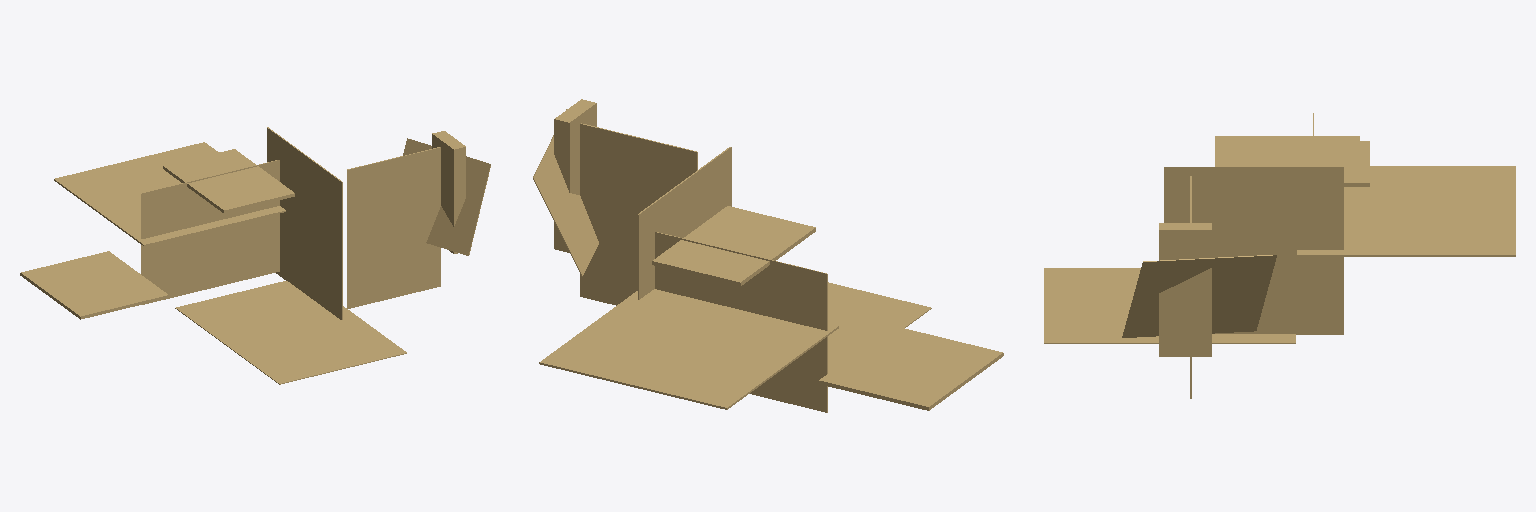
robot.urdf — evolved_design:
<?xml version="1.0" ?>
<robot name="evolved_design">
  <link name="base_link">
    <inertial>
      <mass value="0.001"/>
      <origin xyz="0 0 0" rpy="0 0 0"/>
      <inertia ixx="0.000001" ixy="0" ixz="0" iyy="0.000001" iyz="0" izz="0.000001"/>
    </inertial>
  </link>
  <link name="link_comp_0">
    <inertial>
      <mass value="0.768596"/>
      <origin xyz="0 0 0" rpy="0 0 0"/>
      <inertia ixx="0.034113626" ixy="0" ixz="0" iyy="0.017103133" iyz="0" izz="0.051215608"/>
    </inertial>
    <visual>
      <origin xyz="0 0 0" rpy="0 0 0"/>
      <geometry>
        <box size="0.516740 0.729796 0.002997"/>
      </geometry>
      <material name="link_comp_0_material">
        <color rgba="0.8 0.7 0.5 1"/>
      </material>
    </visual>
    <collision>
      <origin xyz="0 0 0" rpy="0 0 0"/>
      <geometry>
        <box size="0.516740 0.729796 0.002997"/>
      </geometry>
    </collision>
  </link>
  <joint name="base_link_to_link_comp_0" type="fixed">
    <parent link="base_link"/>
    <child link="link_comp_0"/>
    <origin xyz="0.258370 0.364898 0.001499" rpy="0.000000 0.000000 0.000000"/>
  </joint>
  <link name="link_comp_1">
    <inertial>
      <mass value="0.658332"/>
      <origin xyz="0 0 0" rpy="0 0 0"/>
      <inertia ixx="0.015854358" ixy="0" ixz="0" iyy="0.023740530" iyz="0" izz="0.007888647"/>
    </inertial>
    <visual>
      <origin xyz="0 0 0" rpy="0 0 0"/>
      <geometry>
        <box size="0.379171 0.004750 0.537558"/>
      </geometry>
      <material name="link_comp_1_material">
        <color rgba="0.8 0.7 0.5 1"/>
      </material>
    </visual>
    <collision>
      <origin xyz="0 0 0" rpy="0 0 0"/>
      <geometry>
        <box size="0.379171 0.004750 0.537558"/>
      </geometry>
    </collision>
  </link>
  <joint name="base_link_to_link_comp_1" type="fixed">
    <parent link="base_link"/>
    <child link="link_comp_1"/>
    <origin xyz="0.706825 0.424635 0.268779" rpy="0.000000 0.000000 0.000000"/>
  </joint>
  <link name="link_comp_2">
    <inertial>
      <mass value="0.521573"/>
      <origin xyz="0 0 0" rpy="0 0 0"/>
      <inertia ixx="0.008094898" ixy="0" ixz="0" iyy="0.021715280" iyz="0" izz="0.013621258"/>
    </inertial>
    <visual>
      <origin xyz="0 0 0" rpy="0 0 0"/>
      <geometry>
        <box size="0.559803 0.003175 0.431546"/>
      </geometry>
      <material name="link_comp_2_material">
        <color rgba="0.8 0.7 0.5 1"/>
      </material>
    </visual>
    <collision>
      <origin xyz="0 0 0" rpy="0 0 0"/>
      <geometry>
        <box size="0.559803 0.003175 0.431546"/>
      </geometry>
    </collision>
  </link>
  <joint name="base_link_to_link_comp_2" type="fixed">
    <parent link="base_link"/>
    <child link="link_comp_2"/>
    <origin xyz="0.169825 0.780008 0.233342" rpy="0.000000 0.000000 0.000000"/>
  </joint>
  <link name="link_comp_3">
    <inertial>
      <mass value="1.053972"/>
      <origin xyz="0 0 0" rpy="0 0 0"/>
      <inertia ixx="0.015850476" ixy="0" ixz="0" iyy="0.007269775" iyz="0" izz="0.023091918"/>
    </inertial>
    <visual>
      <origin xyz="0 0 0" rpy="0 0 0"/>
      <geometry>
        <box size="0.287417 0.424623 0.012700"/>
      </geometry>
      <material name="link_comp_3_material">
        <color rgba="0.8 0.7 0.5 1"/>
      </material>
    </visual>
    <collision>
      <origin xyz="0 0 0" rpy="0 0 0"/>
      <geometry>
        <box size="0.287417 0.424623 0.012700"/>
      </geometry>
    </collision>
  </link>
  <joint name="base_link_to_link_comp_3" type="fixed">
    <parent link="base_link"/>
    <child link="link_comp_3"/>
    <origin xyz="0.220309 0.732444 0.438396" rpy="0.000000 0.000000 0.000000"/>
  </joint>
  <link name="link_comp_4">
    <inertial>
      <mass value="2.111518"/>
      <origin xyz="0 0 0" rpy="0 0 0"/>
      <inertia ixx="0.032954932" ixy="0" ixz="0" iyy="0.029249918" iyz="0" izz="0.004584814"/>
    </inertial>
    <visual>
      <origin xyz="0 0 0" rpy="0 0 0"/>
      <geometry>
        <box size="0.050000 0.153480 0.404636"/>
      </geometry>
      <material name="link_comp_4_material">
        <color rgba="0.8 0.7 0.5 1"/>
      </material>
    </visual>
    <collision>
      <origin xyz="0 0 0" rpy="0 0 0"/>
      <geometry>
        <box size="0.050000 0.153480 0.404636"/>
      </geometry>
    </collision>
  </link>
  <joint name="base_link_to_link_comp_4" type="fixed">
    <parent link="base_link"/>
    <child link="link_comp_4"/>
    <origin xyz="0.921911 0.409429 0.362100" rpy="0.000000 0.000000 0.000000"/>
  </joint>
  <link name="link_comp_5">
    <inertial>
      <mass value="1.665711"/>
      <origin xyz="0 0 0" rpy="0 0 0"/>
      <inertia ixx="0.055591242" ixy="0" ixz="0" iyy="0.051588807" iyz="0" izz="0.107168856"/>
    </inertial>
    <visual>
      <origin xyz="0 0 0" rpy="0 0 0"/>
      <geometry>
        <box size="0.609600 0.632808 0.006350"/>
      </geometry>
      <material name="link_comp_5_material">
        <color rgba="0.8 0.7 0.5 1"/>
      </material>
    </visual>
    <collision>
      <origin xyz="0 0 0" rpy="0 0 0"/>
      <geometry>
        <box size="0.609600 0.632808 0.006350"/>
      </geometry>
    </collision>
  </link>
  <joint name="base_link_to_link_comp_5" type="fixed">
    <parent link="base_link"/>
    <child link="link_comp_5"/>
    <origin xyz="0.181850 1.050376 0.268720" rpy="0.000000 0.000000 0.000000"/>
  </joint>
  <link name="link_comp_6">
    <inertial>
      <mass value="1.224223"/>
      <origin xyz="0 0 0" rpy="0 0 0"/>
      <inertia ixx="0.018039915" ixy="0" ixz="0" iyy="0.013035212" iyz="0" izz="0.031045801"/>
    </inertial>
    <visual>
      <origin xyz="0 0 0" rpy="0 0 0"/>
      <geometry>
        <box size="0.357252 0.420340 0.011989"/>
      </geometry>
      <material name="link_comp_6_material">
        <color rgba="0.8 0.7 0.5 1"/>
      </material>
    </visual>
    <collision>
      <origin xyz="0 0 0" rpy="0 0 0"/>
      <geometry>
        <box size="0.357252 0.420340 0.011989"/>
      </geometry>
    </collision>
  </link>
  <joint name="base_link_to_link_comp_6" type="fixed">
    <parent link="base_link"/>
    <child link="link_comp_6"/>
    <origin xyz="-0.339559 0.704993 0.178403" rpy="0.000000 0.000000 0.000000"/>
  </joint>
  <link name="link_comp_7">
    <inertial>
      <mass value="0.291925"/>
      <origin xyz="0 0 0" rpy="0 0 0"/>
      <inertia ixx="0.006711573" ixy="0" ixz="0" iyy="0.002691589" iyz="0" izz="0.004020474"/>
    </inertial>
    <visual>
      <origin xyz="0 0 0" rpy="0 0 0"/>
      <geometry>
        <box size="0.003175 0.406518 0.332613"/>
      </geometry>
      <material name="link_comp_7_material">
        <color rgba="0.8 0.7 0.5 1"/>
      </material>
    </visual>
    <collision>
      <origin xyz="0 0 0" rpy="0 0 0"/>
      <geometry>
        <box size="0.003175 0.406518 0.332613"/>
      </geometry>
    </collision>
  </link>
  <joint name="base_link_to_link_comp_7" type="fixed">
    <parent link="base_link"/>
    <child link="link_comp_7"/>
    <origin xyz="0.901031 0.450417 0.332163" rpy="-0.083462 0.424613 0.249538"/>
  </joint>
  <link name="link_comp_8">
    <inertial>
      <mass value="0.905799"/>
      <origin xyz="0 0 0" rpy="0 0 0"/>
      <inertia ixx="0.042357000" ixy="0" ixz="0" iyy="0.021817856" iyz="0" izz="0.020542550"/>
    </inertial>
    <visual>
      <origin xyz="0 0 0" rpy="0 0 0"/>
      <geometry>
        <box size="0.004750 0.521656 0.537606"/>
      </geometry>
      <material name="link_comp_8_material">
        <color rgba="0.8 0.7 0.5 1"/>
      </material>
    </visual>
    <collision>
      <origin xyz="0 0 0" rpy="0 0 0"/>
      <geometry>
        <box size="0.004750 0.521656 0.537606"/>
      </geometry>
    </collision>
  </link>
  <joint name="base_link_to_link_comp_8" type="fixed">
    <parent link="base_link"/>
    <child link="link_comp_8"/>
    <origin xyz="0.453245 0.607686 0.268803" rpy="0.000000 0.000000 0.000000"/>
  </joint>
</robot>

--- Render facts (derived) ---
The picture shows the robot from 3 angles, left to right: view 1: azimuth 30°, elevation 25°; view 2: azimuth 150°, elevation 25°; view 3: azimuth 270°, elevation 25°; orthographic projection.
Robot: evolved_design — 10 links, 9 joints (9 fixed); root link base_link; default pose: all joints at 0.
Visible links, largest first — view 1: link_comp_1, link_comp_0, link_comp_2, link_comp_8, link_comp_5, link_comp_6, link_comp_3, link_comp_7, link_comp_4; view 2: link_comp_5, link_comp_1, link_comp_2, link_comp_6, link_comp_3, link_comp_8, link_comp_0, link_comp_7, link_comp_4; view 3: link_comp_8, link_comp_5, link_comp_0, link_comp_7, link_comp_4, link_comp_3, link_comp_6.
Boxes of the visible links, x1,y1,x2,y2 form: link_comp_1: [347, 147, 440, 308]; link_comp_0: [175, 281, 406, 384]; link_comp_2: [141, 160, 279, 304]; link_comp_8: [267, 127, 342, 319]; link_comp_5: [54, 142, 285, 246]; link_comp_6: [20, 251, 168, 319]; link_comp_3: [163, 149, 294, 213]; link_comp_7: [403, 138, 490, 255]; link_comp_4: [432, 131, 465, 253]; link_comp_5: [539, 289, 838, 409]; link_comp_1: [580, 123, 697, 305]; link_comp_2: [655, 232, 827, 412]; link_comp_6: [819, 326, 1003, 410]; link_comp_3: [652, 206, 815, 286]; link_comp_8: [638, 147, 731, 299]; link_comp_0: [828, 282, 931, 372]; link_comp_7: [533, 109, 598, 276]; link_comp_4: [554, 99, 596, 252]; link_comp_8: [1164, 167, 1343, 334]; link_comp_5: [1297, 166, 1515, 256]; link_comp_0: [1044, 268, 1295, 343]; link_comp_7: [1122, 255, 1276, 337]; link_comp_4: [1159, 223, 1211, 356]; link_comp_3: [1224, 141, 1369, 186]; link_comp_6: [1215, 136, 1359, 166].
Size in the robot's own frame: 1.54 by 1.37 by 0.5644 metres.
Geometry: primitives only (box / cylinder / sphere), no mesh files.